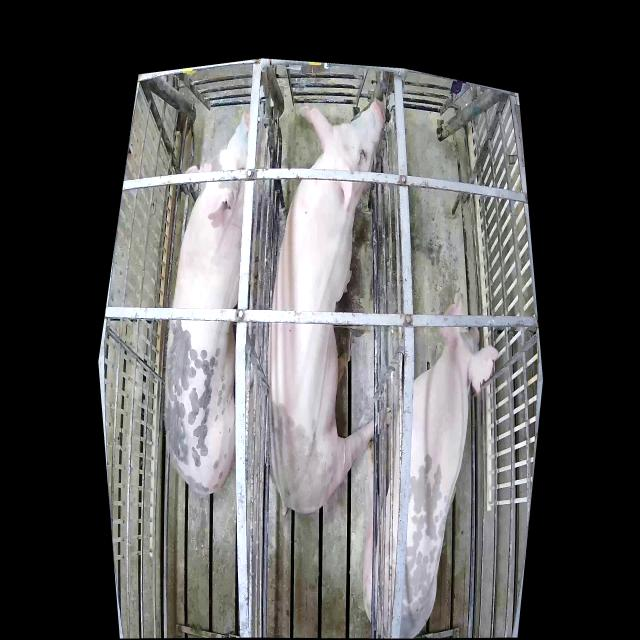pig: (267, 101, 384, 516), (365, 295, 501, 639), (165, 110, 257, 493)
